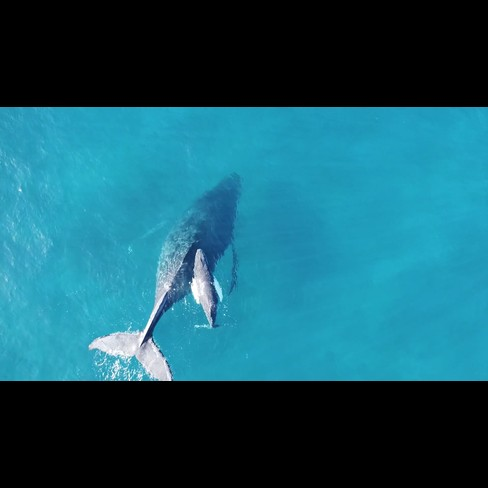hump: (84, 168, 247, 382), (187, 244, 226, 332)
